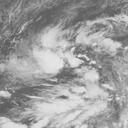cyclone: (13, 22, 114, 125)
